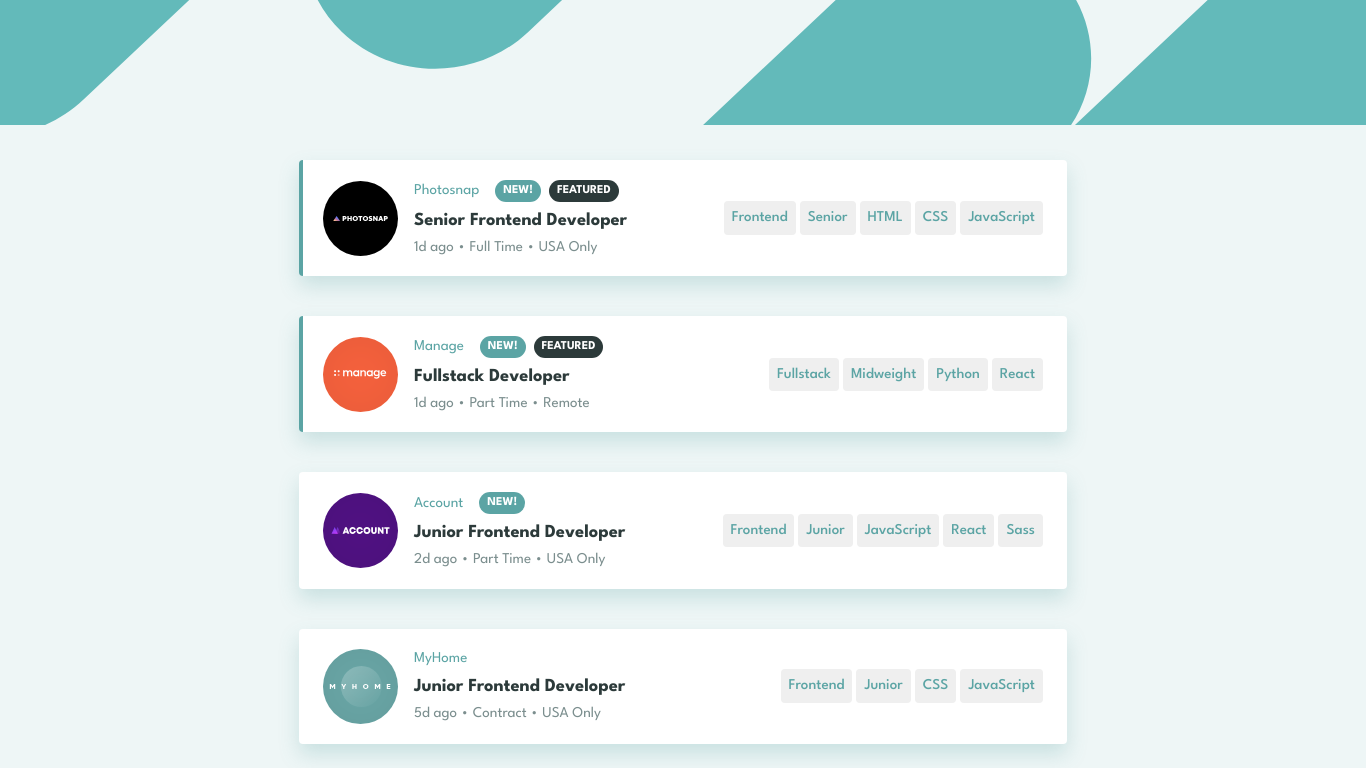
it: <App /> › user removes job filters with clear button
The image size is (1366, 768).
Click the button with test id "job-filter-tag" next to "Senior Frontend Developer". click: x=760, y=218
box: [724,202,796,235]
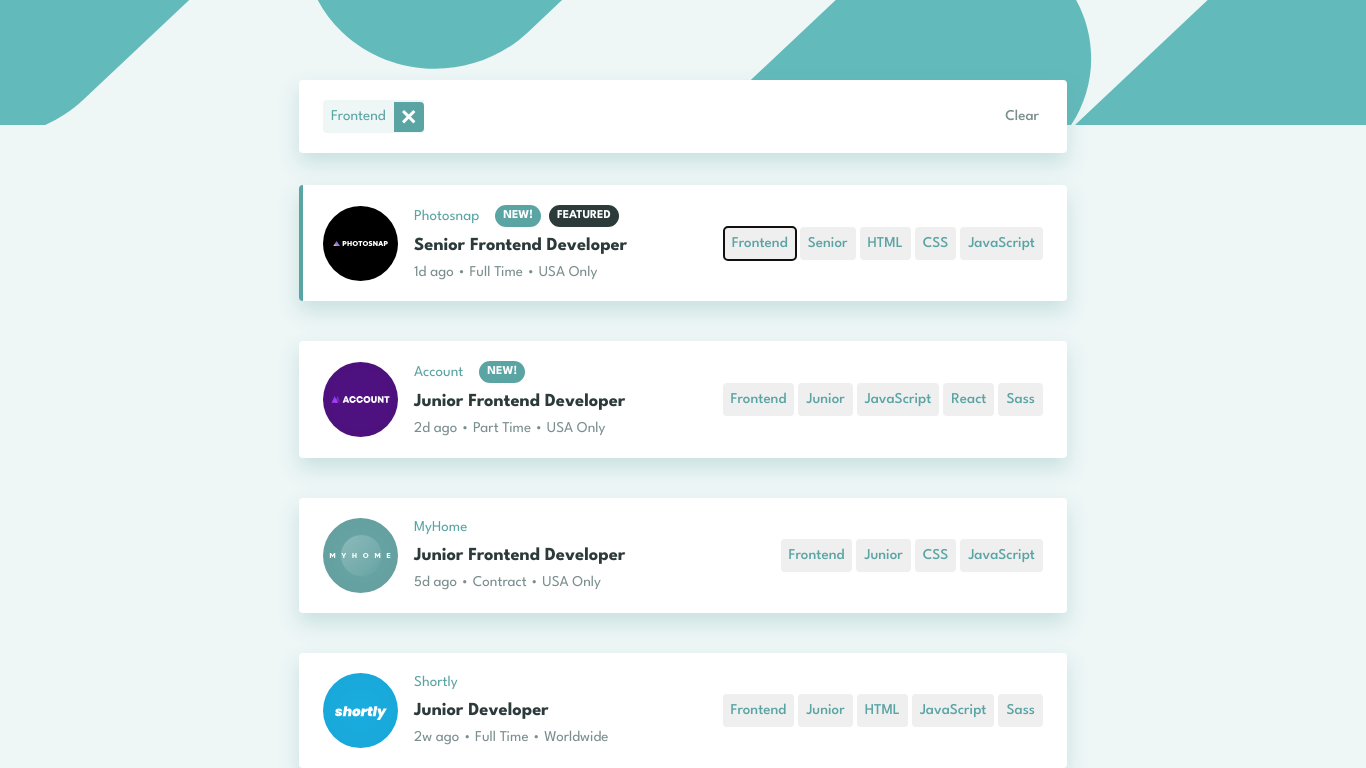
Now the element with test id "job-filter-bar" is shown, box [299,80,1067,153]
Click the button "Clear". click: x=1022, y=117
box: [997,100,1047,133]
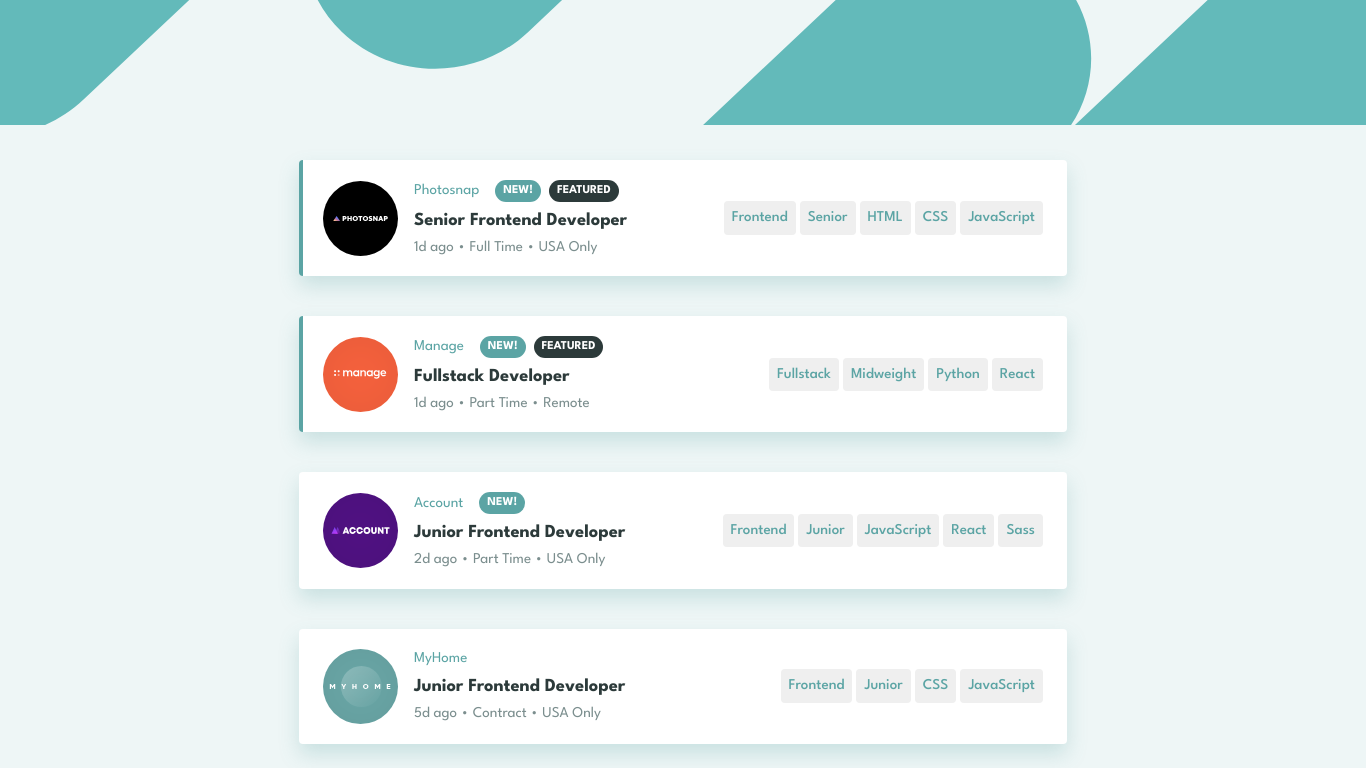
Now the element with test id "job-filter-bar" is gone
Now the number of elements with test id "job-posting" is 10
